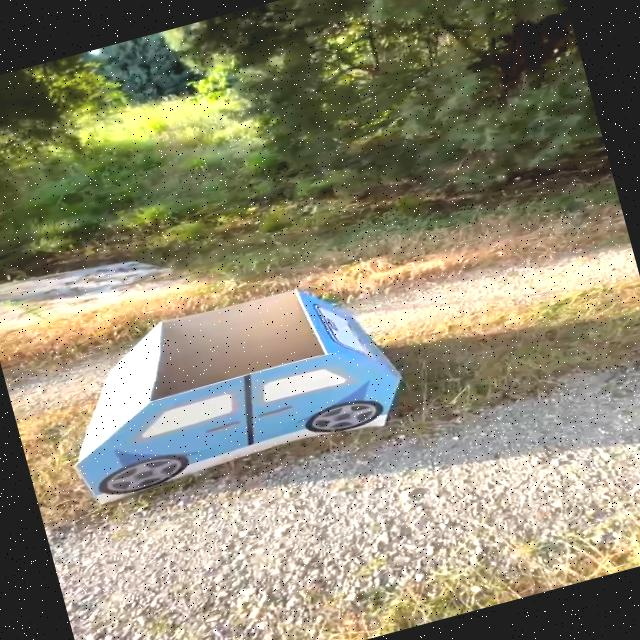blue_car: (31, 229, 495, 558)
